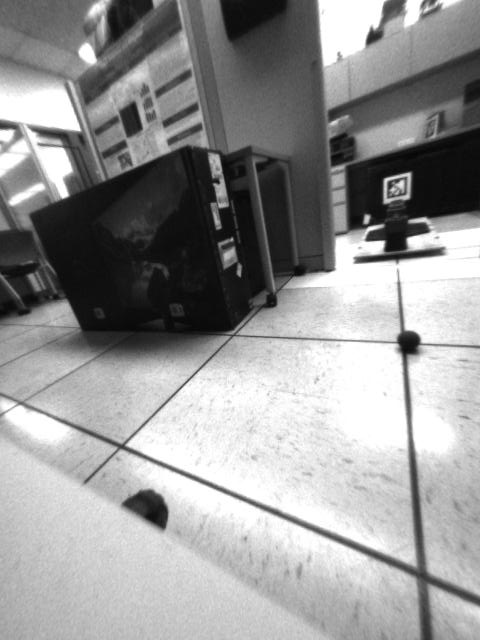dogtoy: (392, 324, 425, 361)
